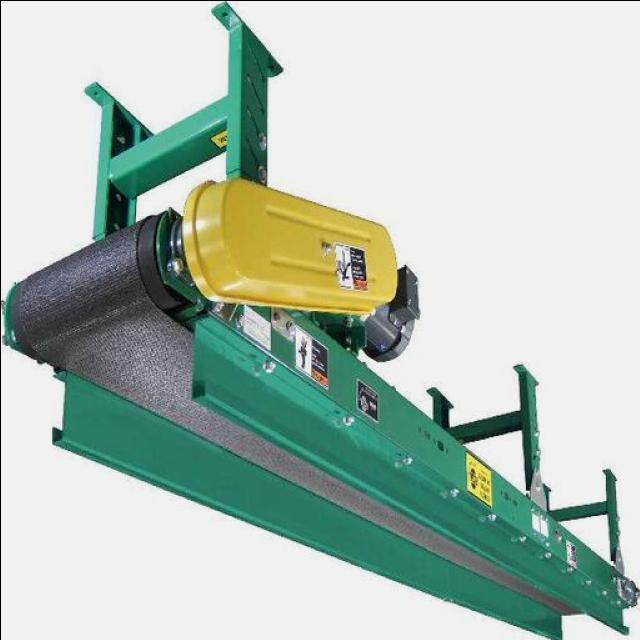conveyor: (7, 214, 593, 620)
